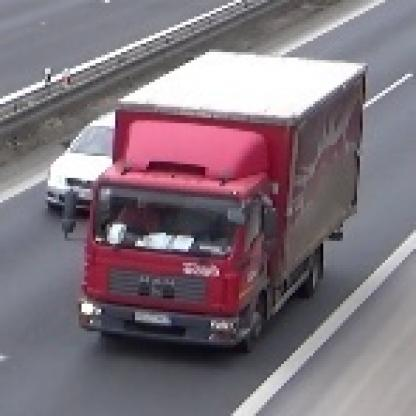truck: (60, 48, 366, 349)
